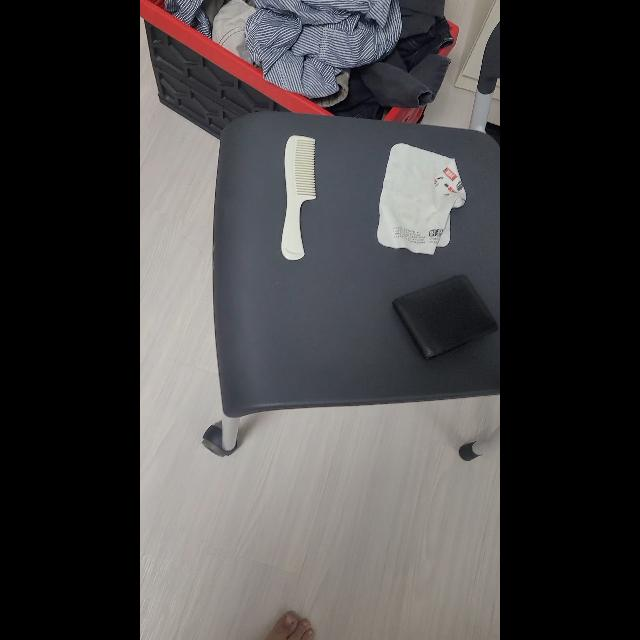COMB: (282, 136, 316, 260)
Glasses cleaning cloth: (378, 143, 467, 254)
WALLET: (392, 274, 498, 360)
